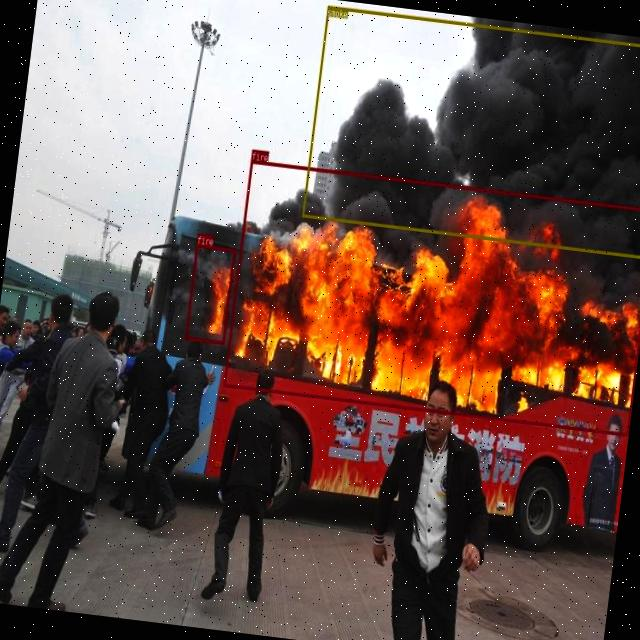fire: (222, 159, 640, 435), (184, 244, 234, 344)
smoke: (301, 4, 640, 258)
